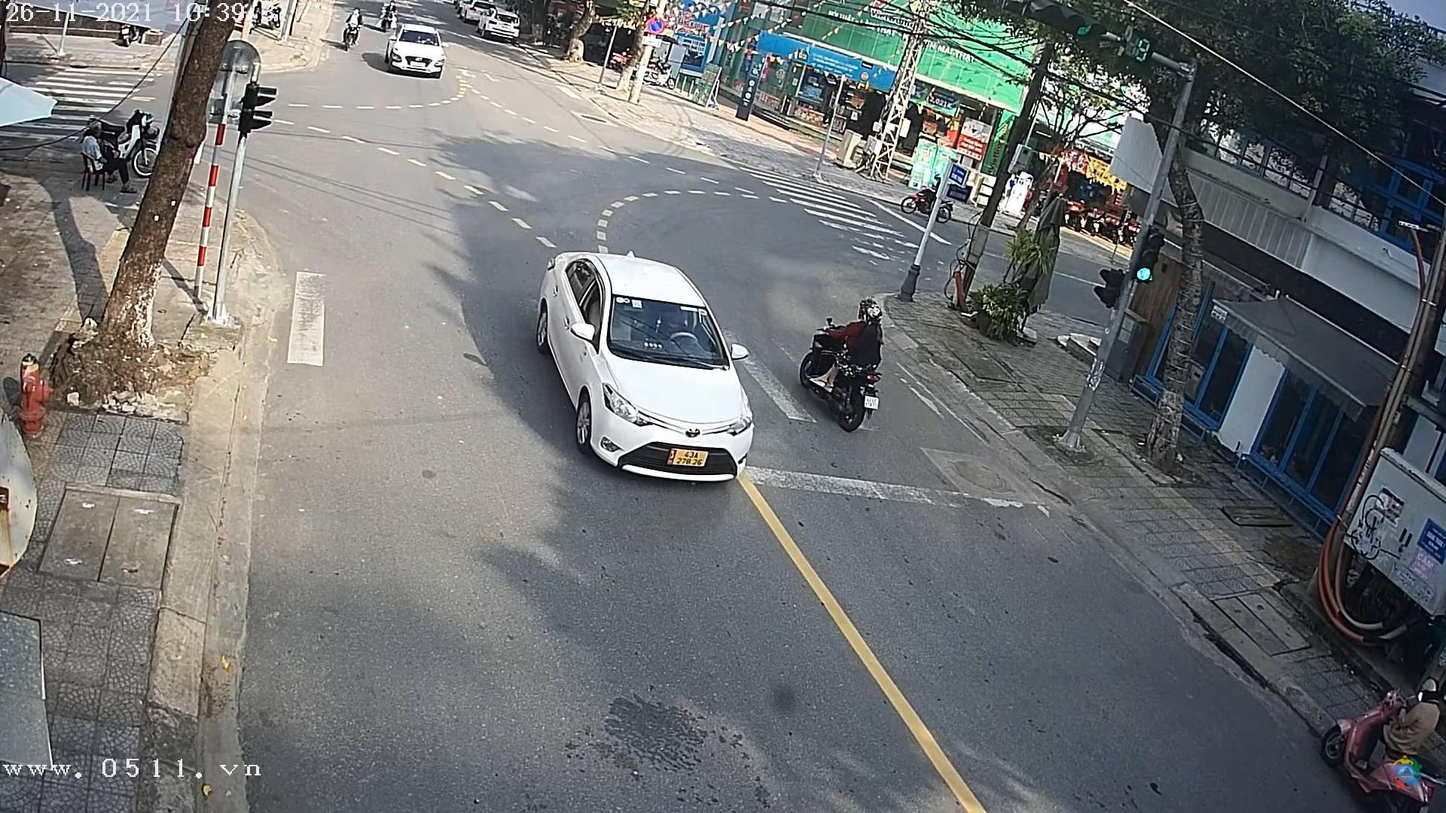car: (535, 251, 757, 480), (382, 26, 449, 77)
